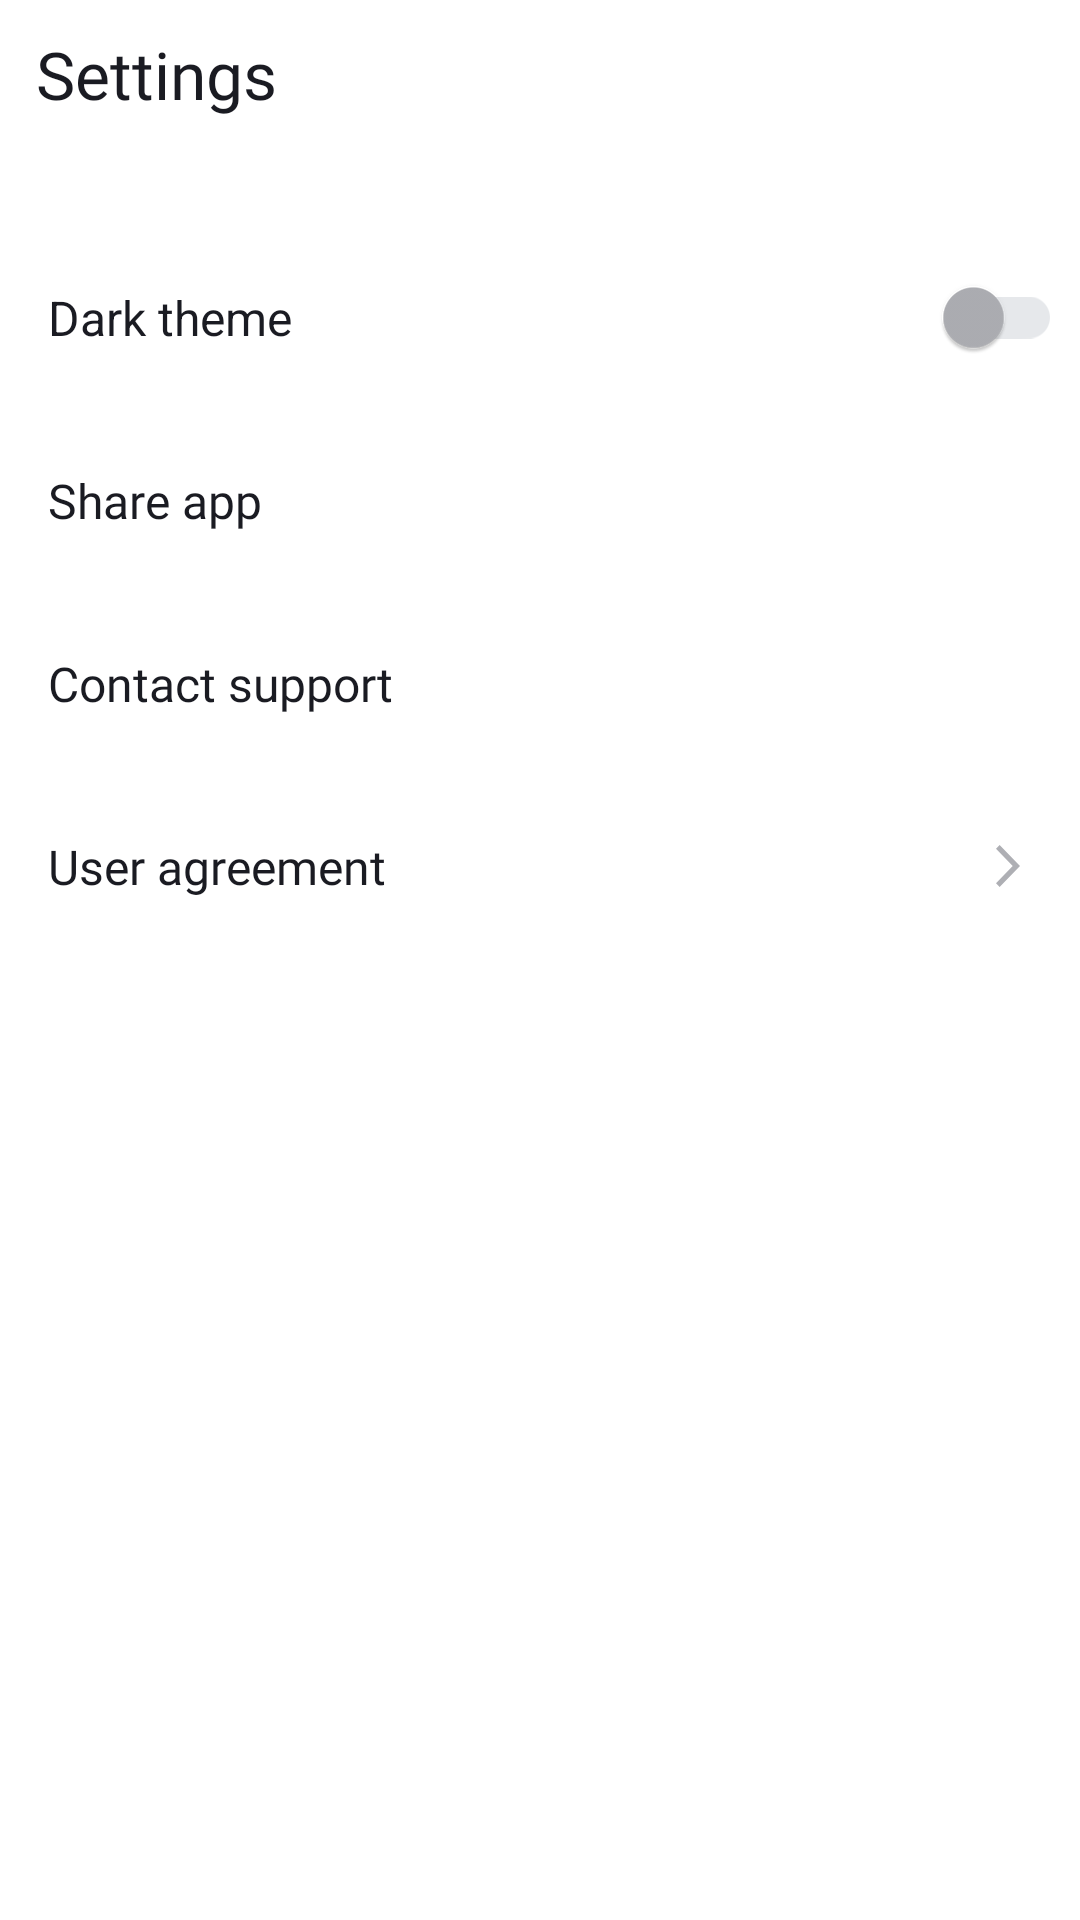

Screen size 1080 x 1920. Icon name, then its center in pixels as point (x, y):
eula arrow: point (1008, 866)
